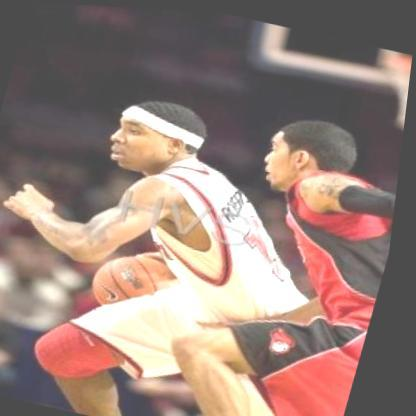basketball: (88, 240, 203, 326)
